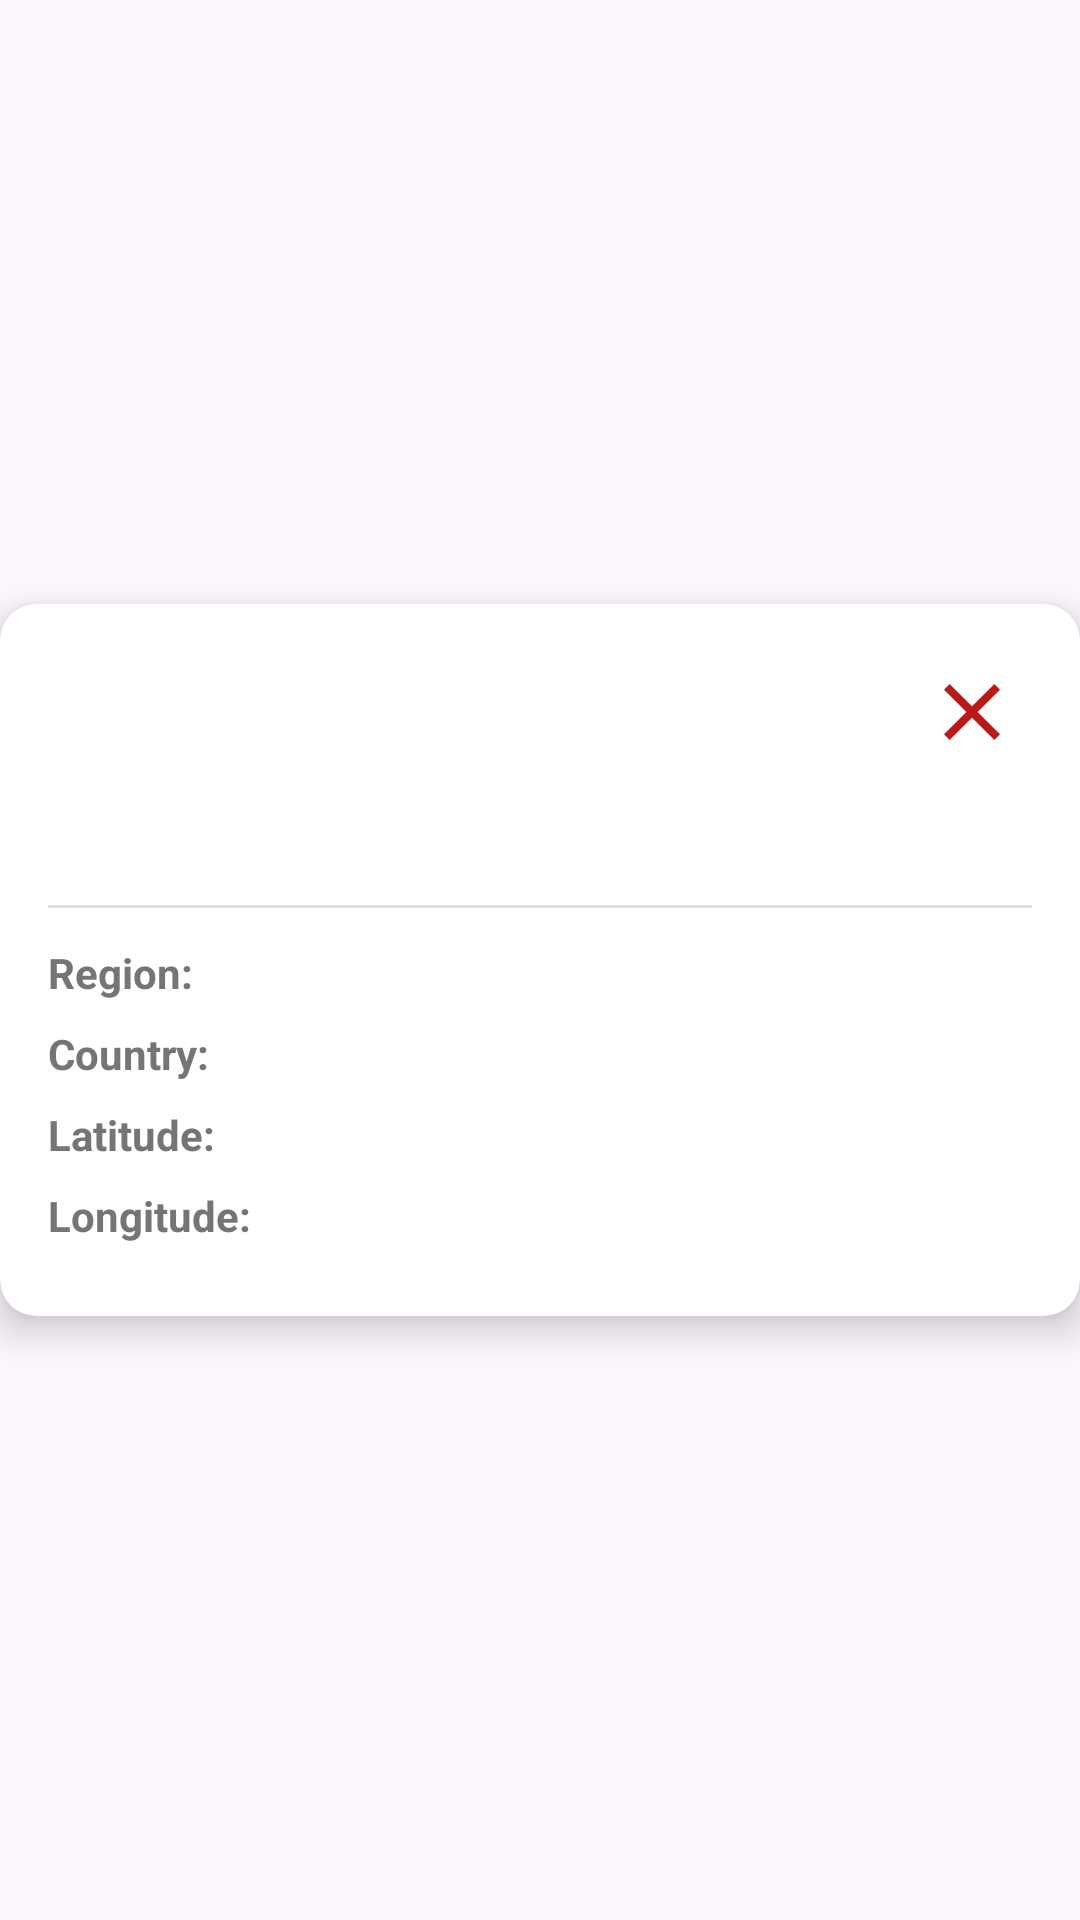

Named icons in this screenshot (1080 x 1920) and their bounding boxes, (x1, y1, x2, y2):
close: (944, 684, 1000, 740)
